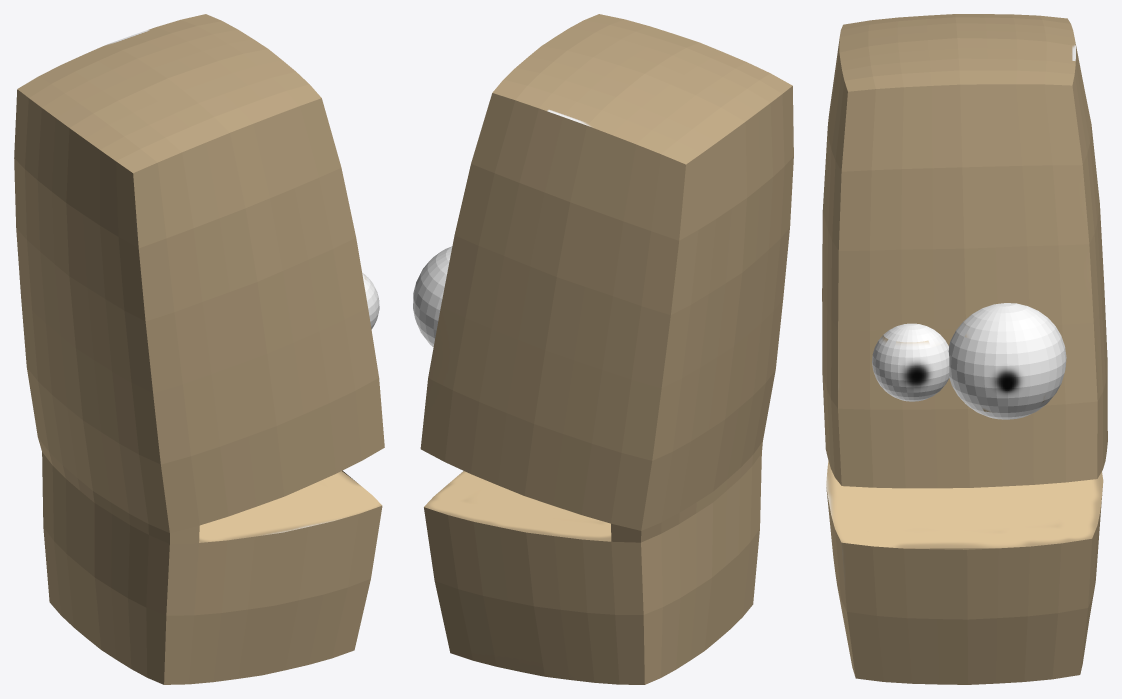
The model's file is ryezaac.fbx.
3 views of the same model, side by side, from view 1: azimuth 30°, elevation 25°; view 2: azimuth 150°, elevation 25°; view 3: azimuth 270°, elevation 25° (orthographic).
Parts seen in each view (by area): view 1: Cube; view 2: Cube; view 3: Cube.
Boxes of the visible parts, x1,y1,x2,y2 form: Cube: [14, 14, 384, 684]; Cube: [413, 14, 793, 684]; Cube: [822, 14, 1107, 684].
Bounding box in the file's own units: 312 × 577 × 254.
Materials: 1 (1 with a texture image).
